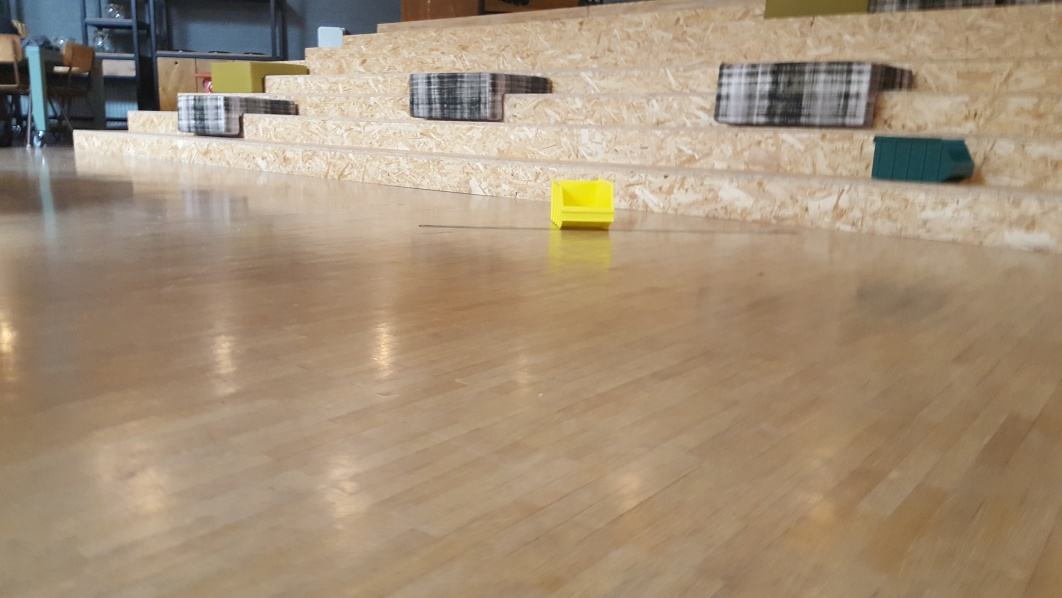tray: (870, 136, 973, 184), (549, 178, 616, 229)
